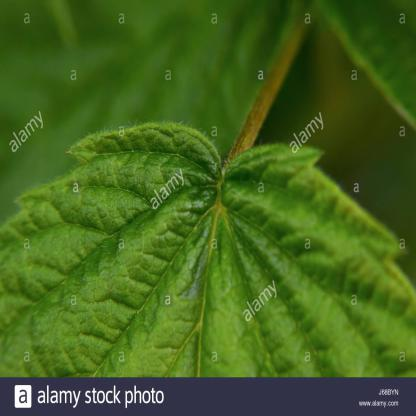raspberry leaf: (0, 118, 416, 377)
